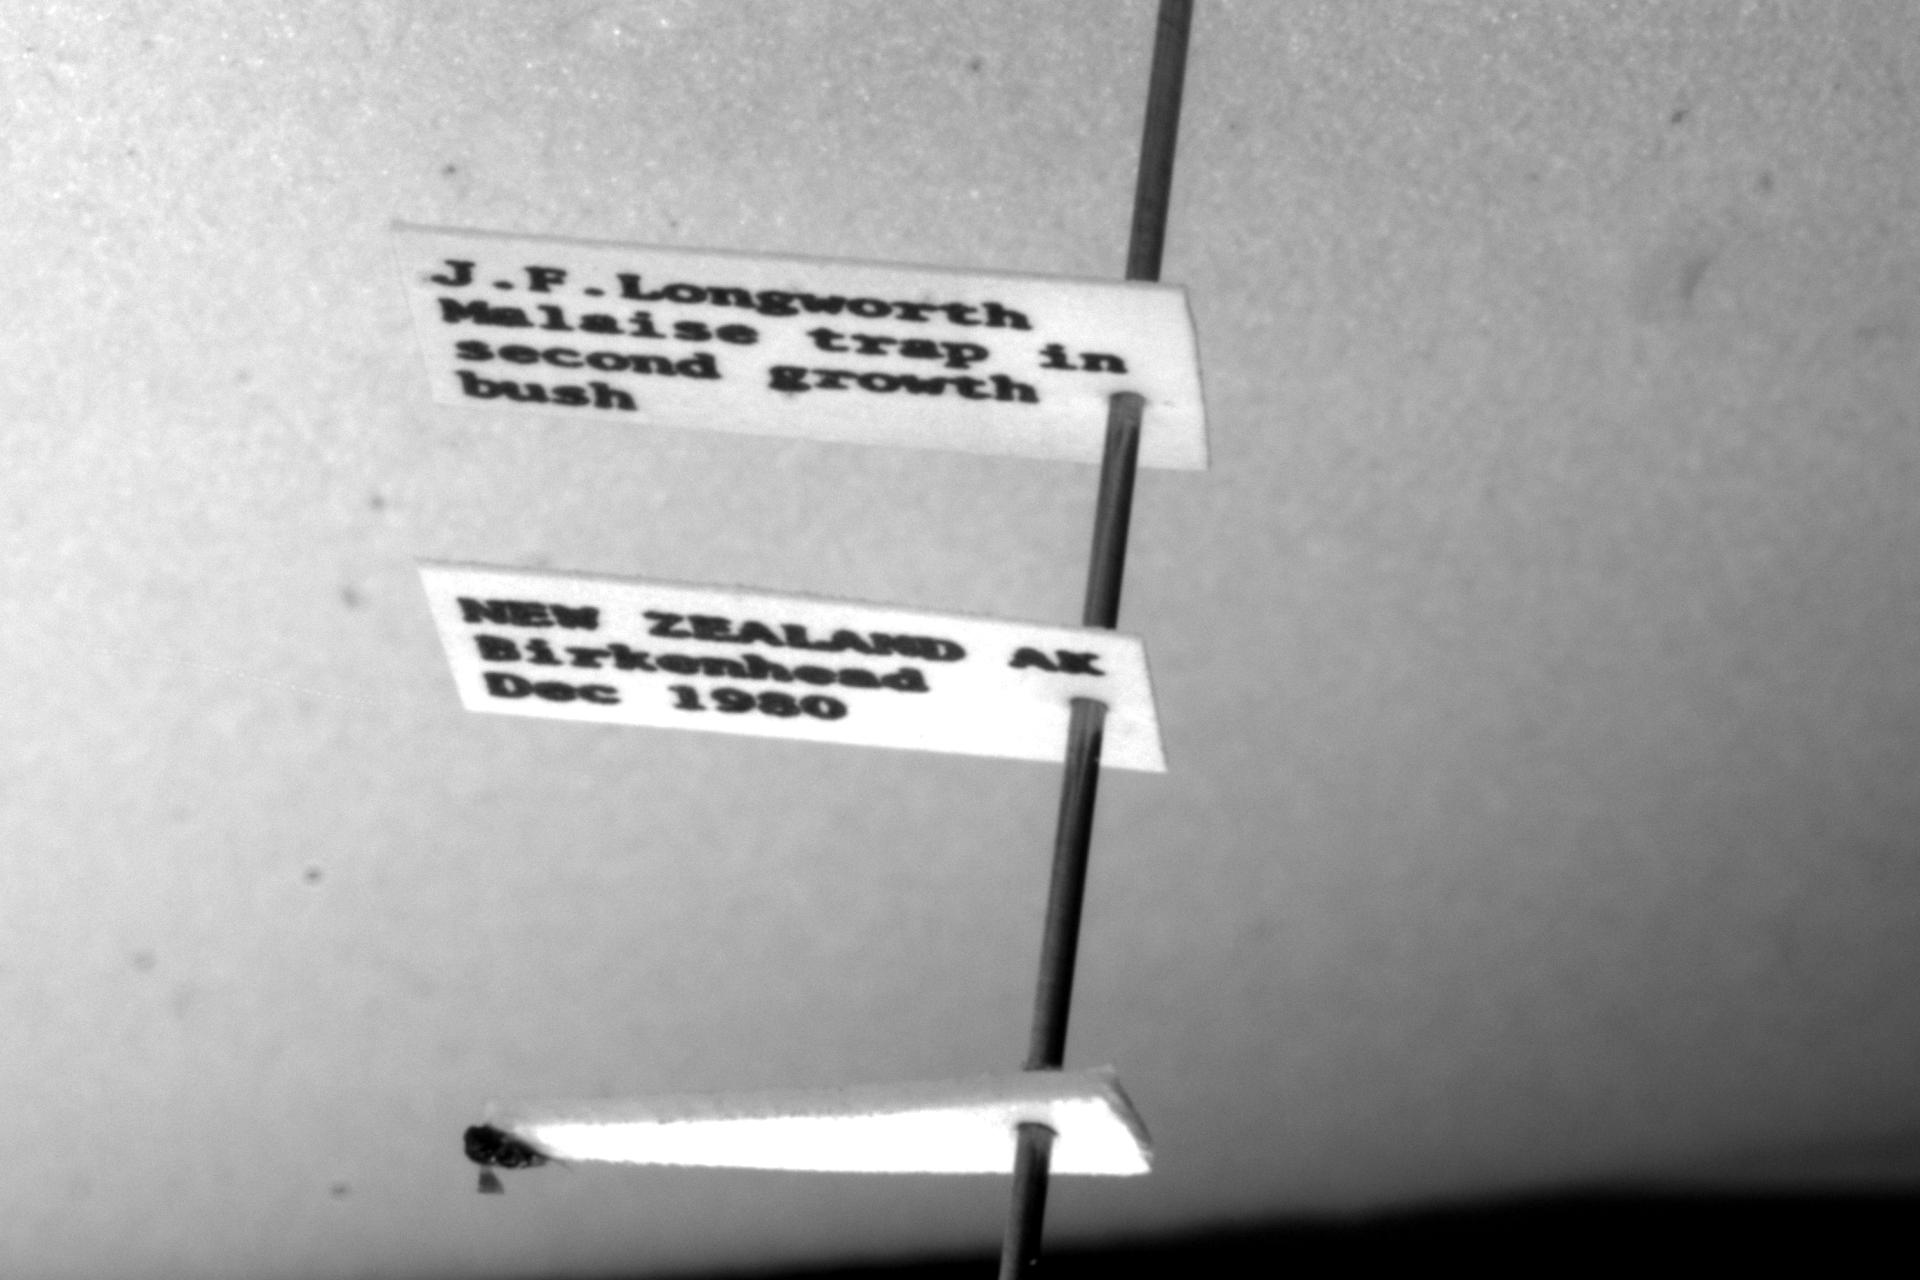typed_label: (394, 226, 1207, 469), (420, 563, 1166, 773)
